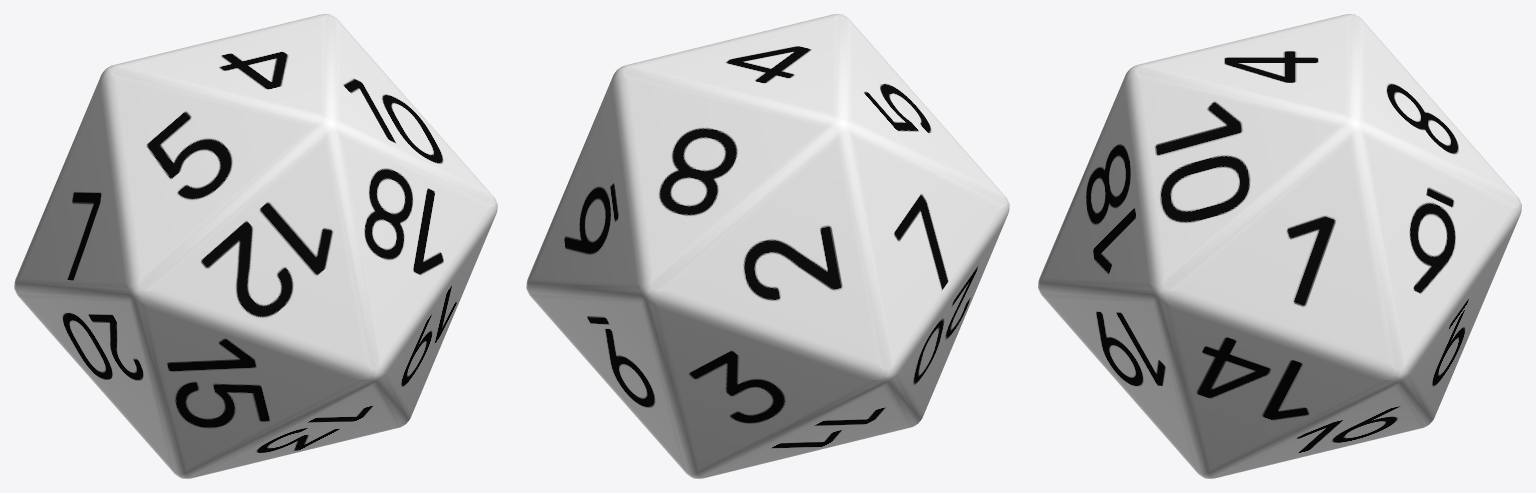
The model's file is Dado20.FBX.
The picture shows the model from 3 angles, left to right: view 1: azimuth 30°, elevation 25°; view 2: azimuth 150°, elevation 25°; view 3: azimuth 270°, elevation 25°; orthographic projection.
Visible parts, largest first — view 1: Dado20; view 2: Dado20; view 3: Dado20.
Boxes of the visible parts, bbox=[...] form: Dado20: bbox=[14, 14, 497, 478]; Dado20: bbox=[526, 14, 1009, 478]; Dado20: bbox=[1038, 14, 1521, 478].
Bounding box in the file's own units: 235 × 222 × 268.
